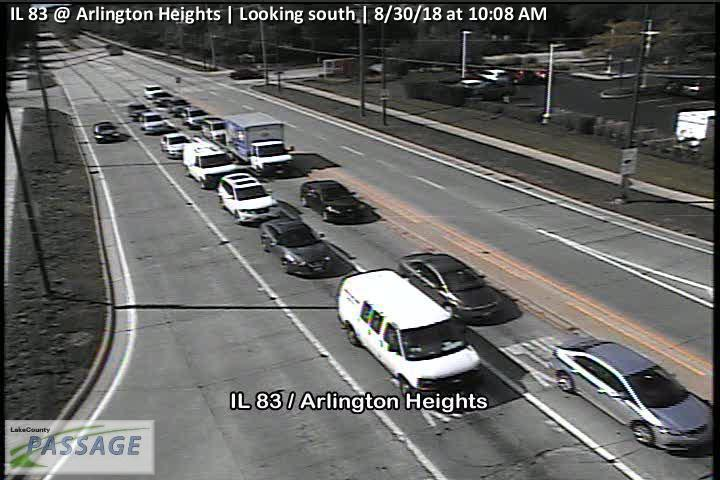SUV: (336, 268, 479, 397), (216, 170, 279, 225), (183, 141, 236, 191), (201, 118, 229, 141), (141, 111, 167, 134)
Sedan: (552, 334, 712, 455), (398, 253, 504, 323), (260, 218, 339, 279), (300, 178, 366, 224), (159, 132, 191, 159), (182, 106, 208, 131), (93, 121, 121, 142)
Truck: (225, 112, 293, 176)
